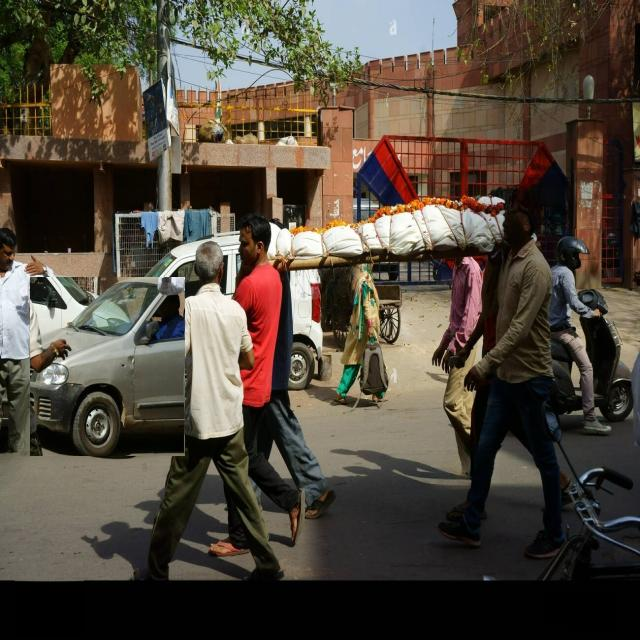car: (30, 277, 185, 456)
motorcycle: (549, 238, 632, 435)
